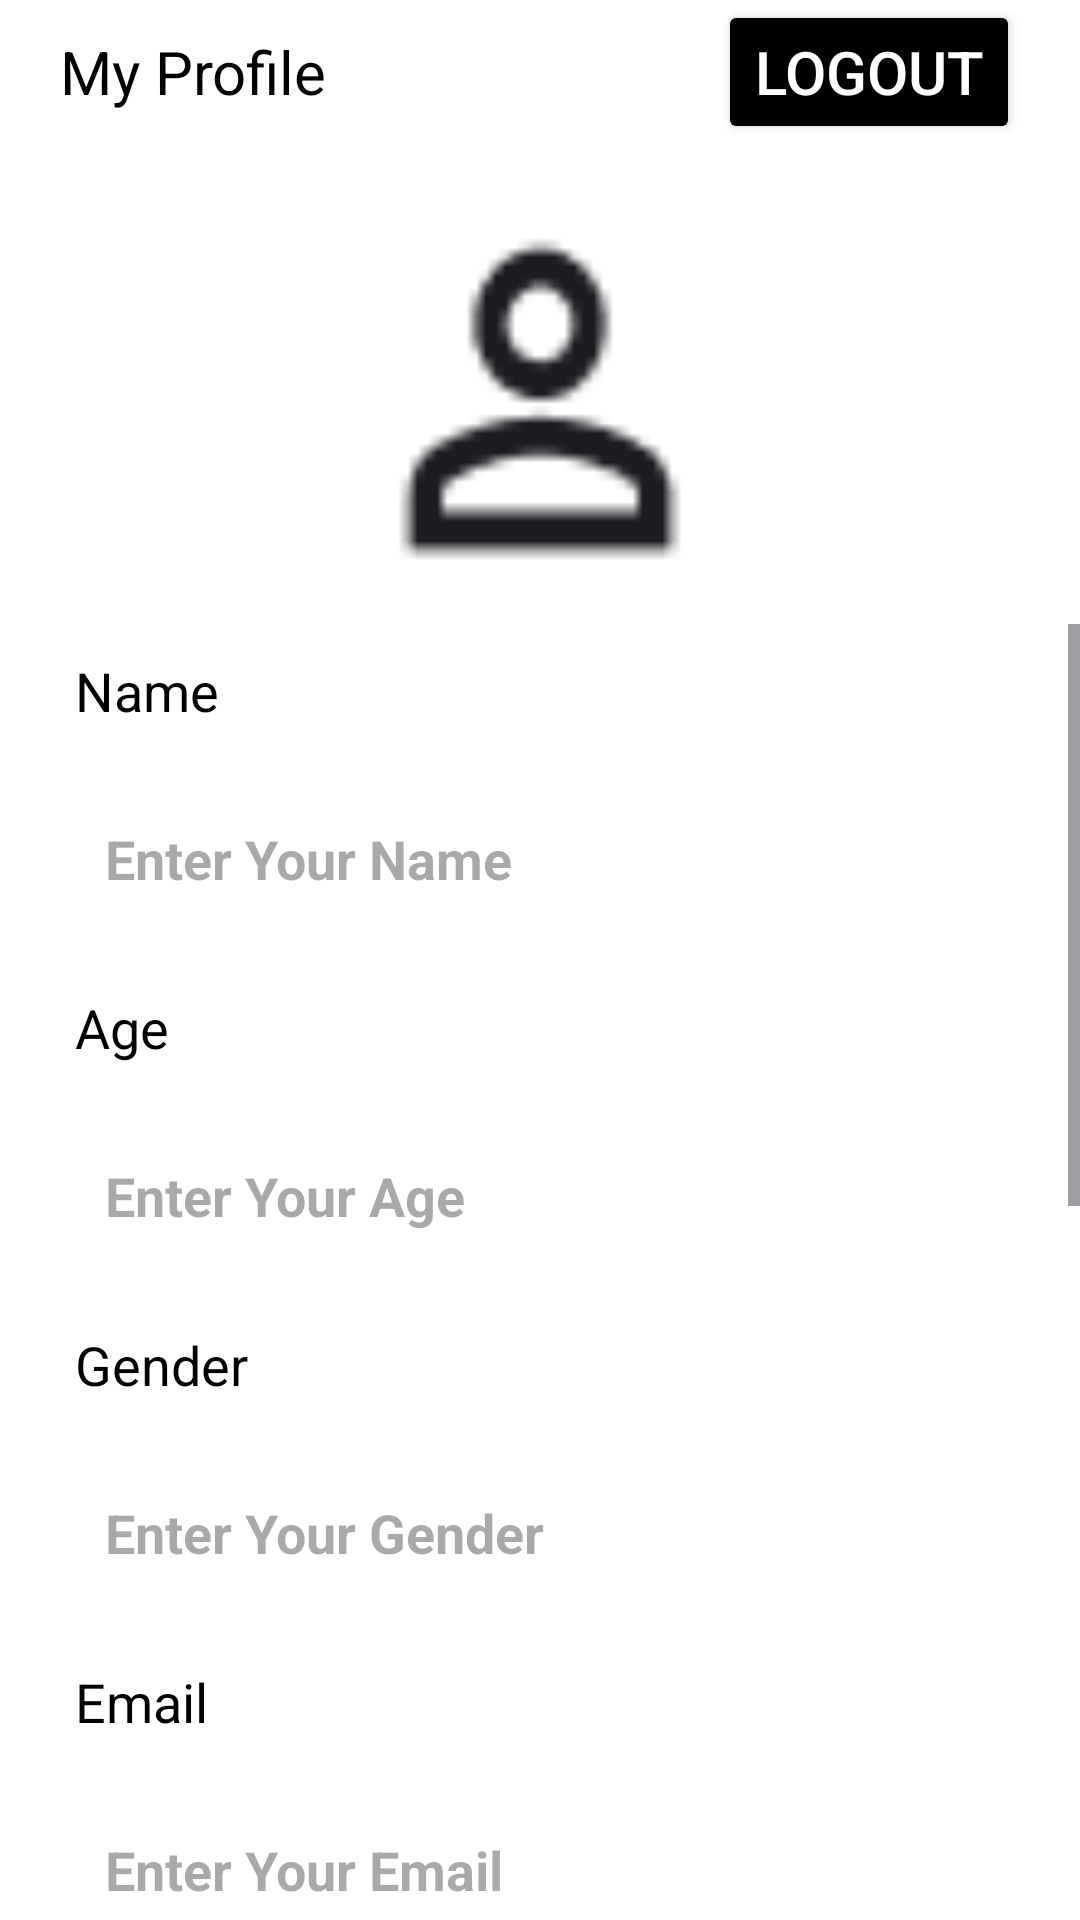

Icons on this 1080 x 1920 Android screen, each with its box as (x1, y1, x2, y2):
person: (401, 241, 679, 558)
